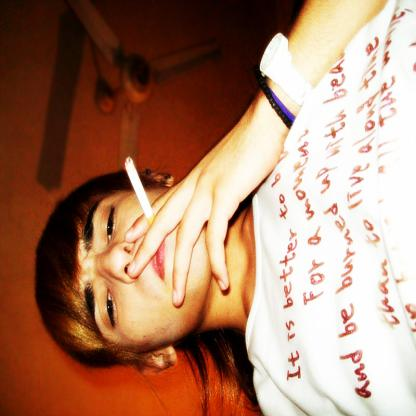smoking: (124, 157, 159, 234)
